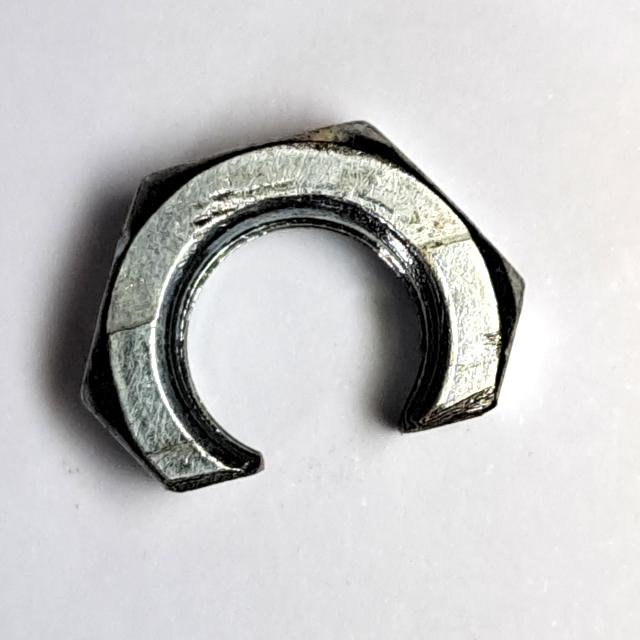Fracture: (70, 102, 539, 517)
